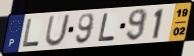1: (152, 7, 166, 40)
9: (126, 8, 149, 43), (75, 13, 96, 45)
L: (97, 12, 117, 43), (21, 18, 41, 48)
U: (43, 13, 72, 48)
